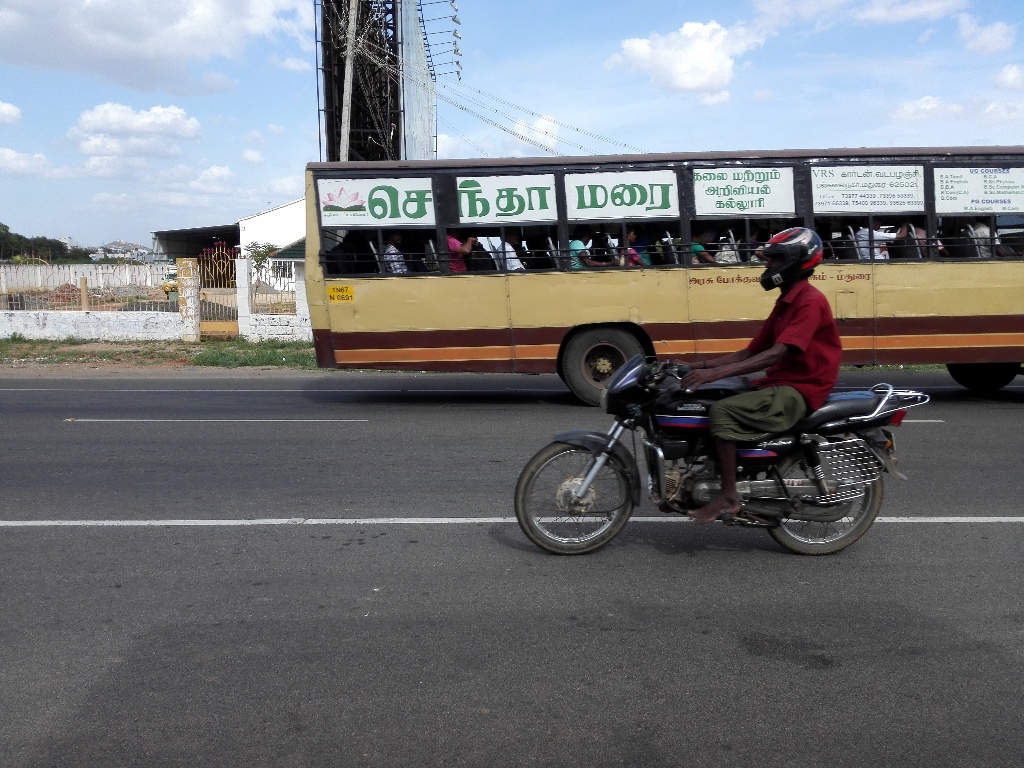biker: (504, 185, 945, 577)
helmet: (742, 211, 838, 310)
